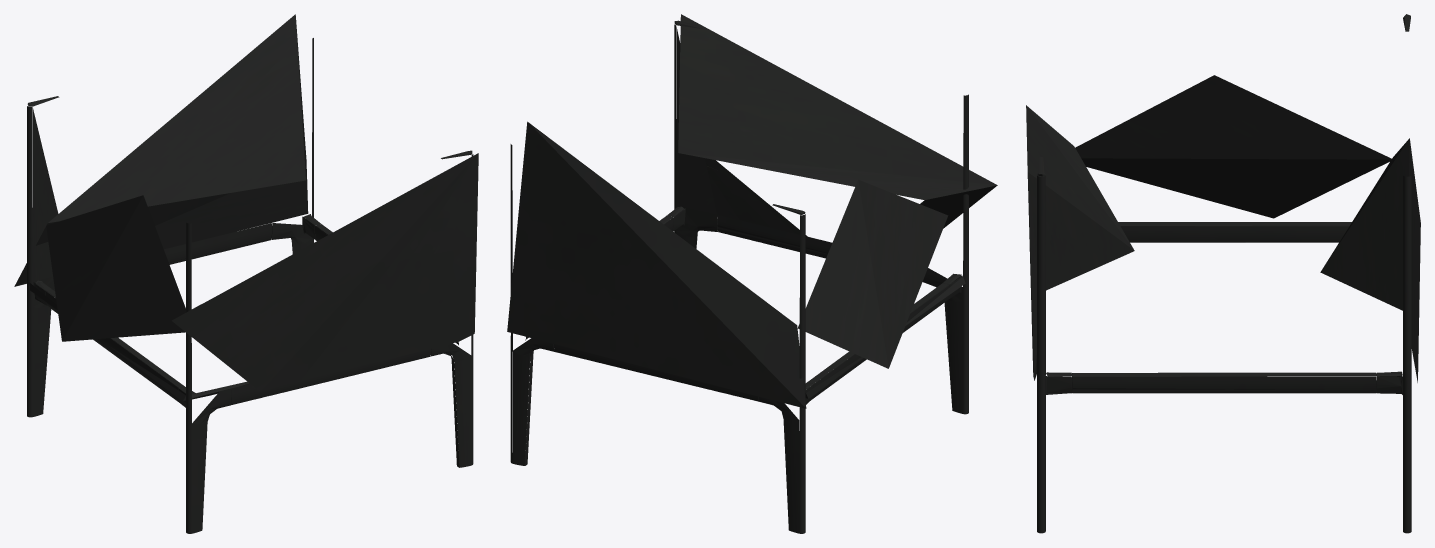
Rendered from sofa_soft_b01.glb.
The picture shows the model from 3 angles, left to right: view 1: azimuth 30°, elevation 25°; view 2: azimuth 150°, elevation 25°; view 3: azimuth 270°, elevation 25°; orthographic projection. The views are drawn at different scales.
Visible parts, largest first — view 1: geometry_0; view 2: geometry_0; view 3: geometry_0.
Part boxes in pixels (x1,y1,x2,y2): geometry_0: (14, 14, 478, 533); geometry_0: (507, 14, 997, 533); geometry_0: (1026, 14, 1420, 533).
Size of the model in its own units: 0.4037 by 0.42 by 0.3881.
1 material, 1 textured.
